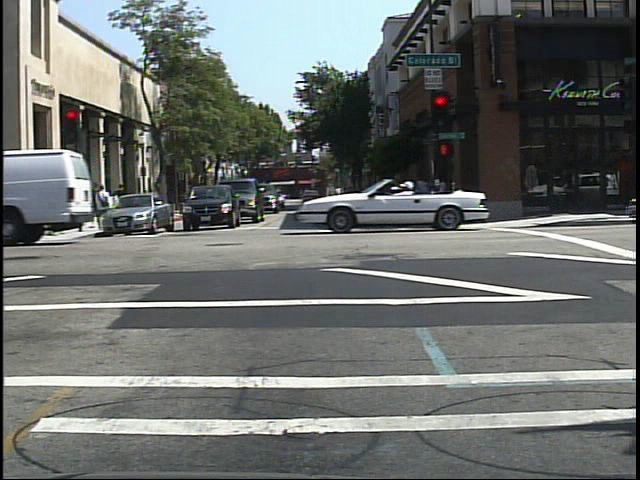person: (95, 179, 114, 227)
